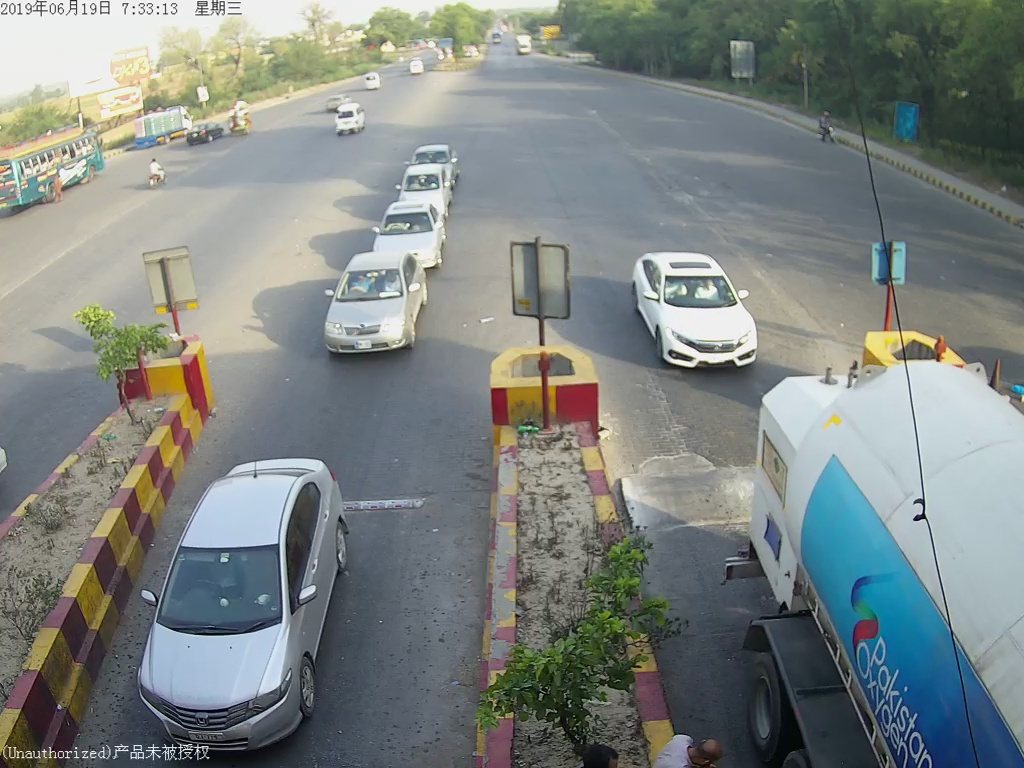Cat-1: (132, 512, 353, 741), (619, 256, 776, 383), (312, 251, 436, 364)
